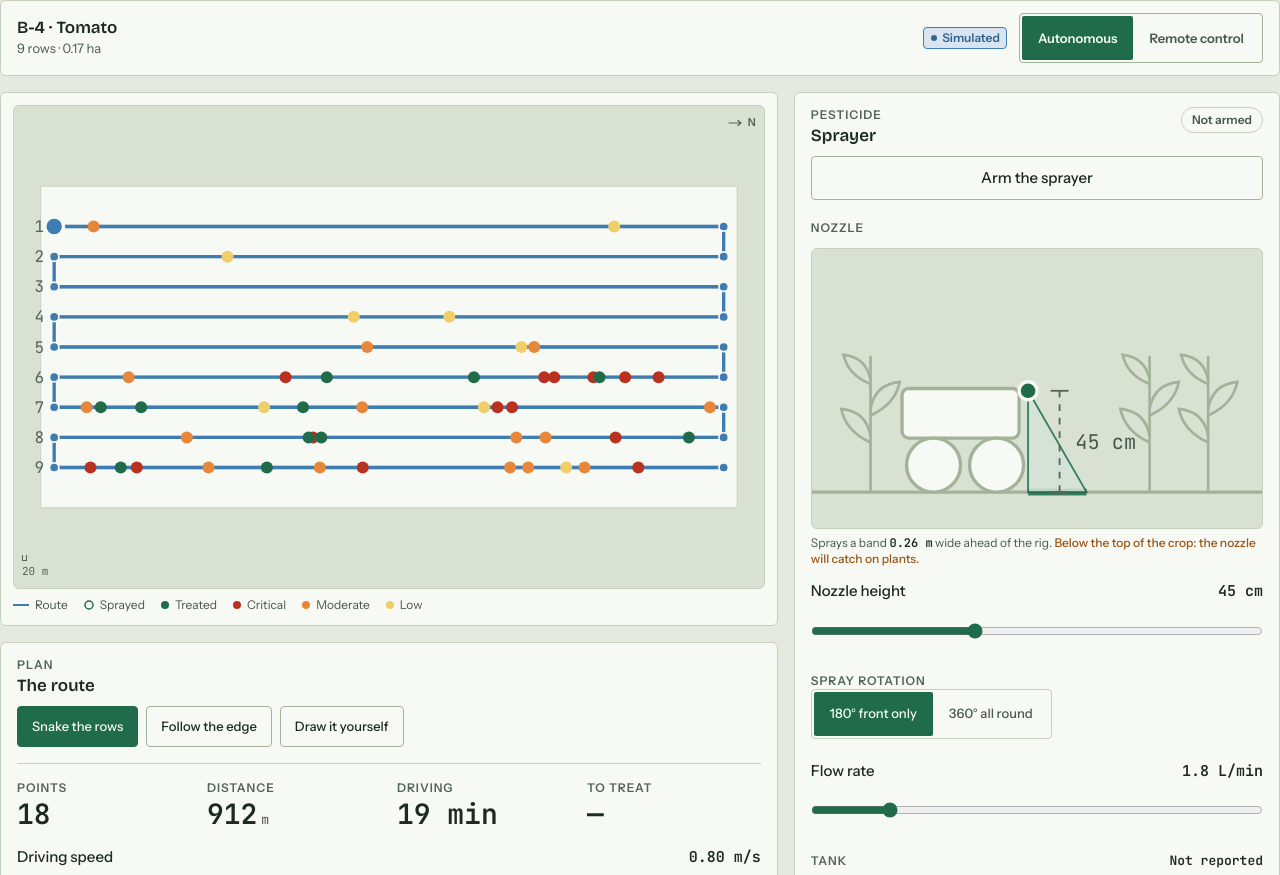
Test case: MissionWorkspace › swaps the plan for the controls in remote control mode
Click the button "Remote control" at x=1197, y=38, box [1134,16,1260,60]
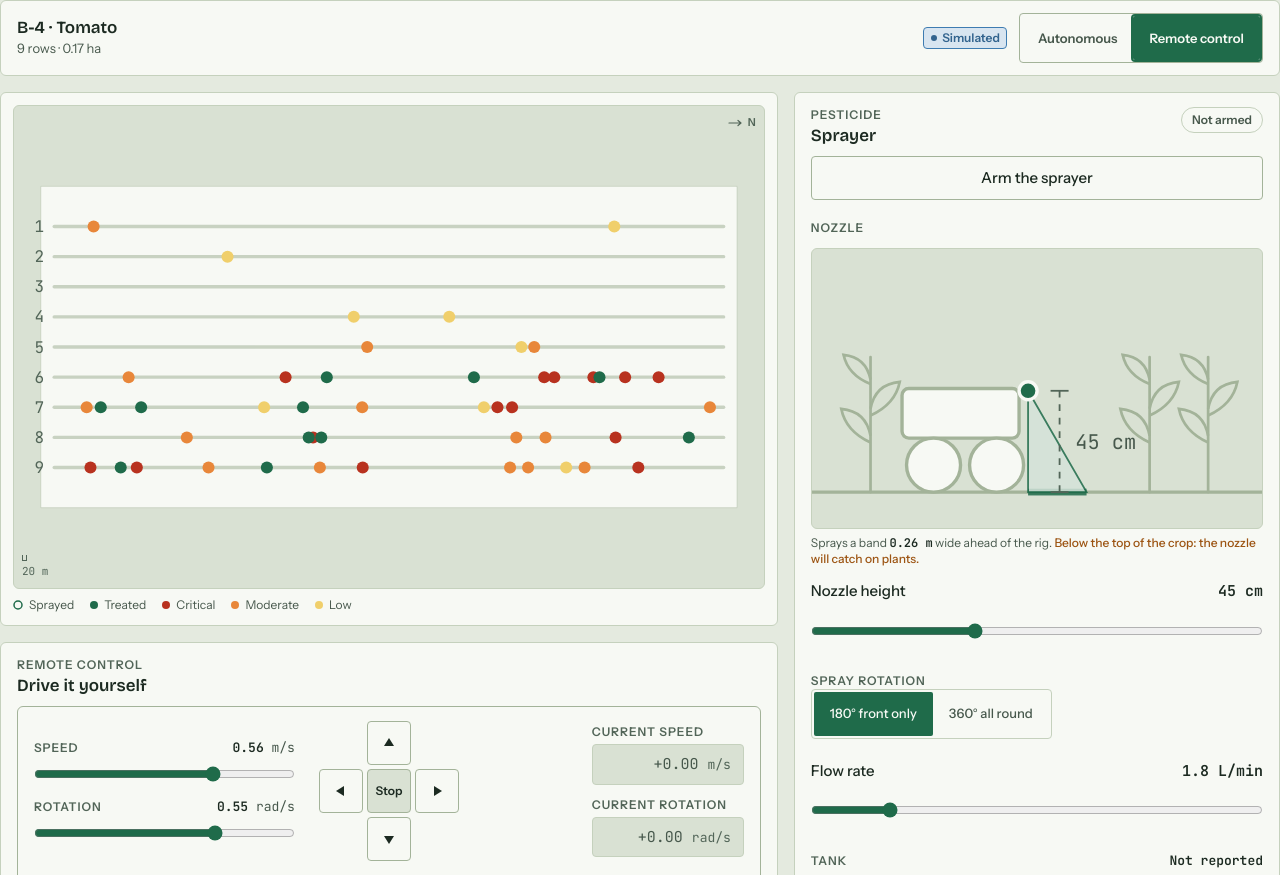
Expected: the picture named "no route planned" is shown, [14,106,764,588]
